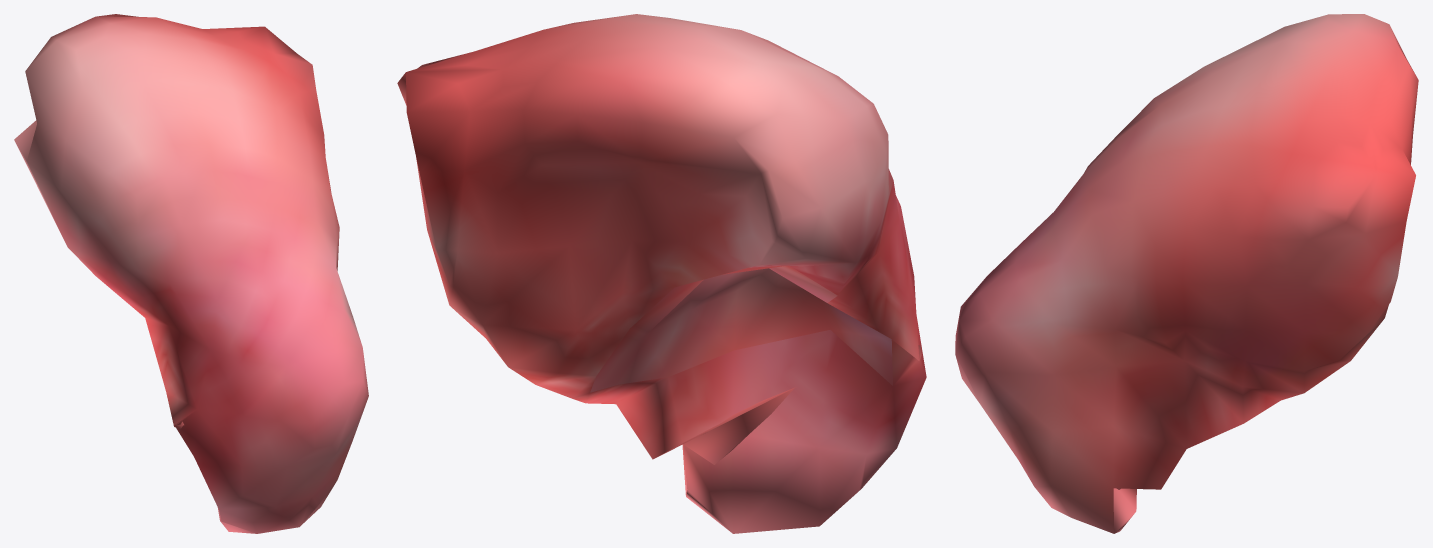
The model's file is Til.fbx.
3 views of the same model, side by side, from view 1: azimuth 30°, elevation 25°; view 2: azimuth 150°, elevation 25°; view 3: azimuth 270°, elevation 25° (orthographic). The views are drawn at different scales.
Parts seen in each view (by area): view 1: Muscle7; view 2: Muscle7; view 3: Muscle7.
Boxes of the visible parts, <box> form: Muscle7: <box>14,14,368,533</box>; Muscle7: <box>397,14,926,533</box>; Muscle7: <box>955,14,1418,533</box>.
Size of the model in its own units: 0.0277 by 0.0405 by 0.036.
